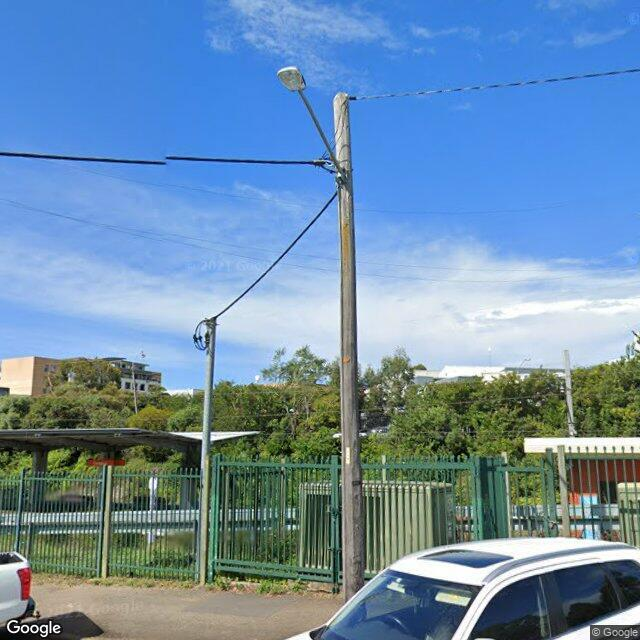steel-pole: (197, 318, 218, 584)
streetlight: (278, 67, 346, 185)
timber-pole: (332, 92, 363, 604)
